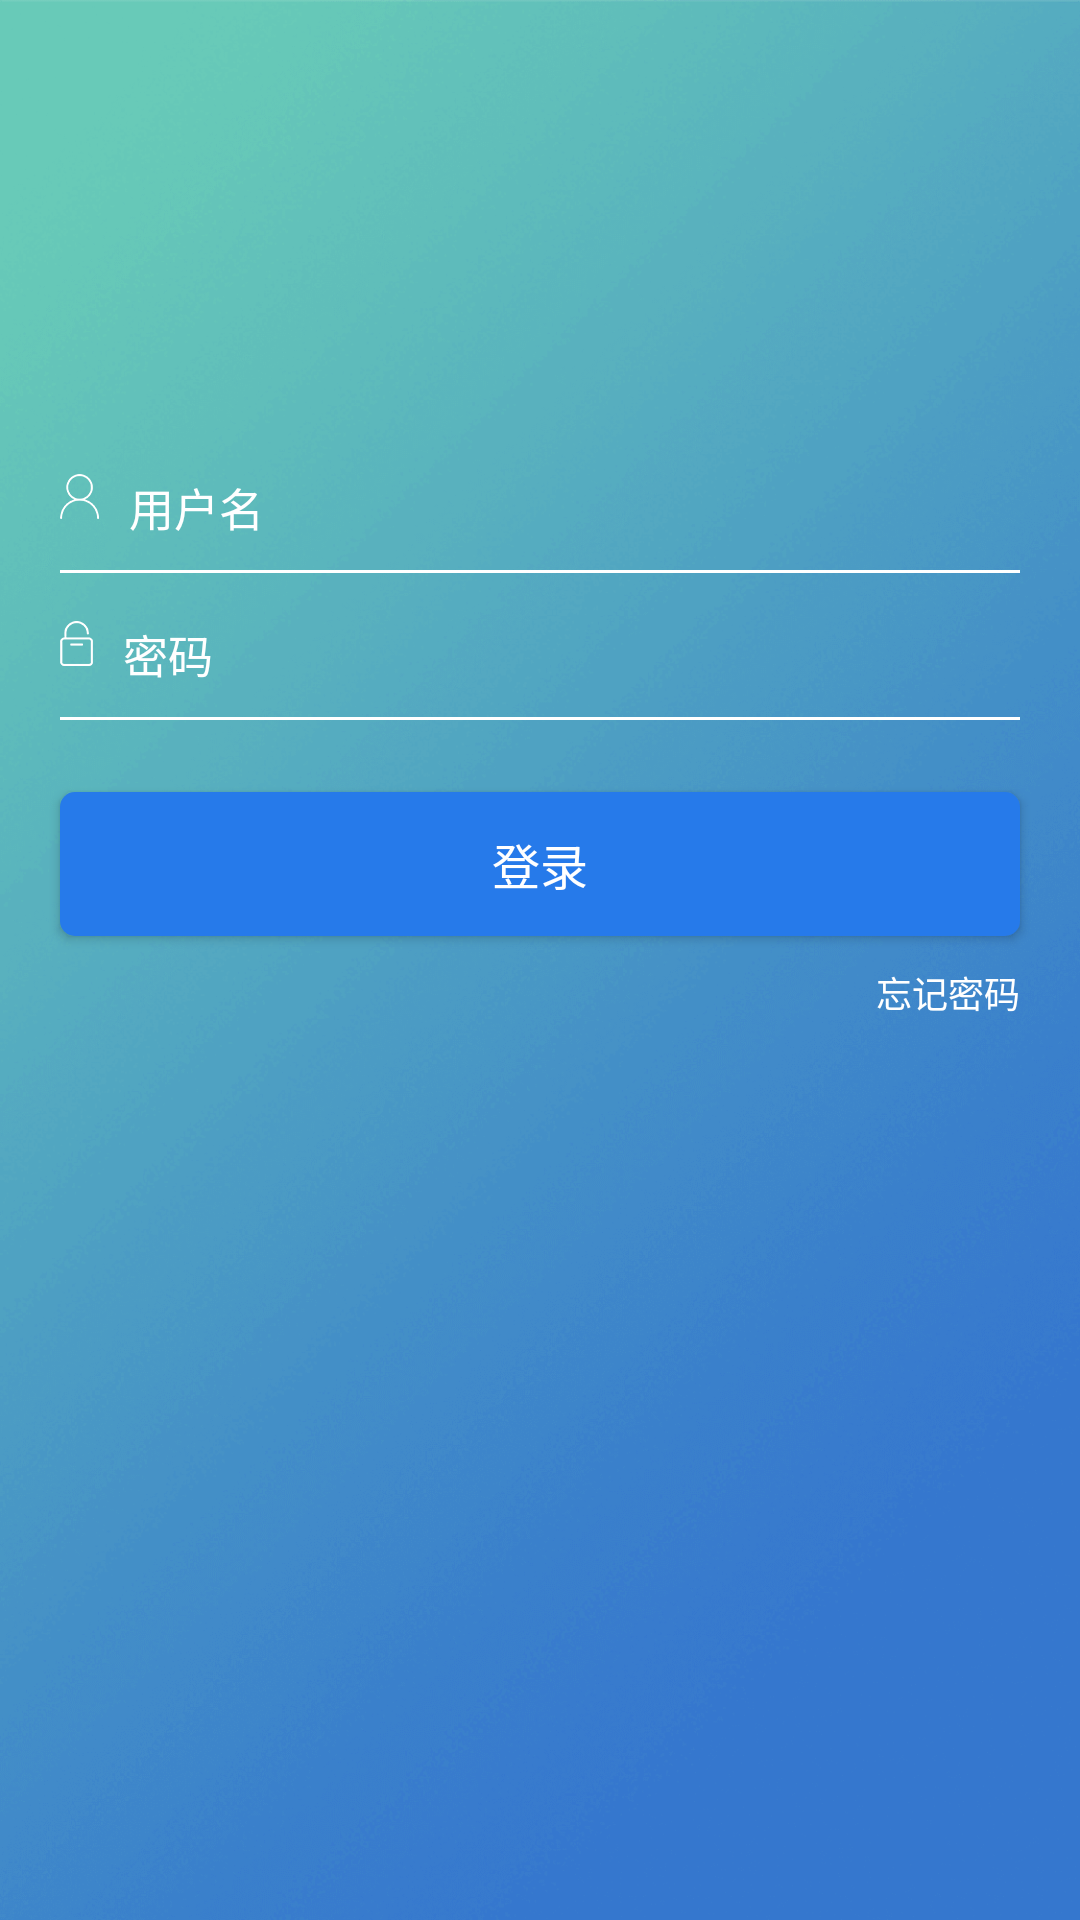

Icon bounding boxes for this 1080w x 1920h phone screenshot, format [x1, y1, x2, y2]:
login name: [60, 474, 99, 519]
login password: [60, 621, 93, 666]
